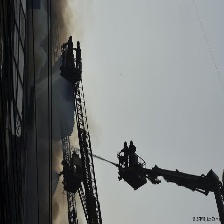smoke: (14, 1, 66, 180)
